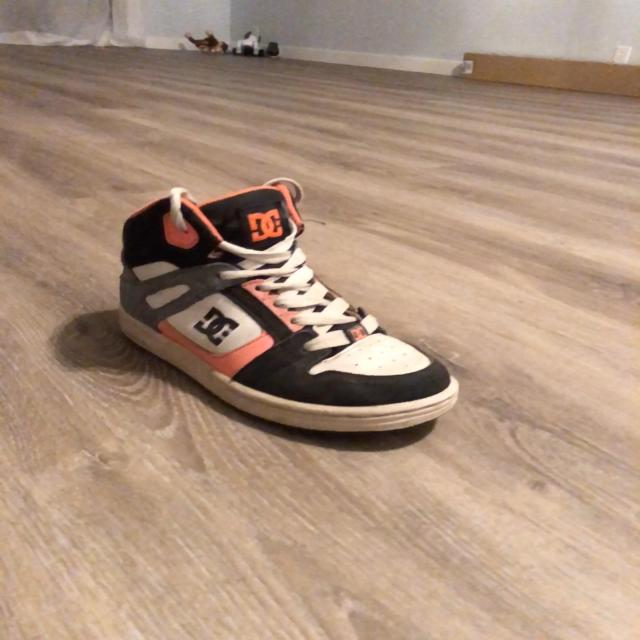shoe: (116, 181, 461, 449)
